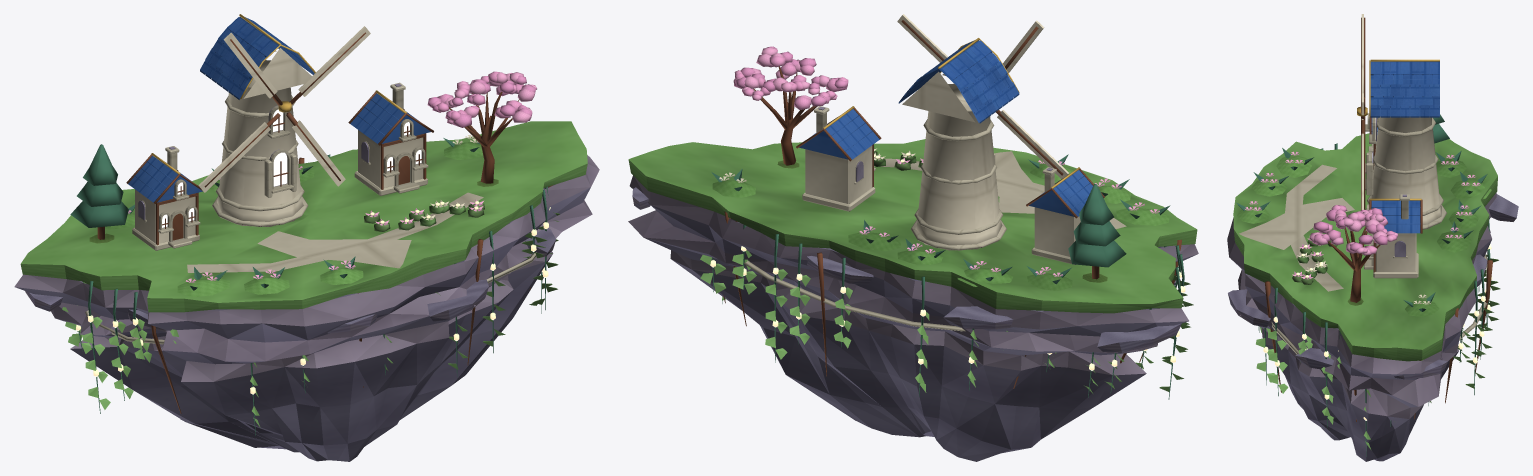
The model's file is sky-windmill-final-v1-balanced.glb.
3 renders of one model, left to right at view 1: azimuth 30°, elevation 25°; view 2: azimuth 150°, elevation 25°; view 3: azimuth 270°, elevation 25°, orthographic. The views are drawn at different scales.
Parts seen in each view (by area): view 1: sky-windmill-final-v1; view 2: sky-windmill-final-v1; view 3: sky-windmill-final-v1.
Part boxes in pixels (x1,y1,x2,y2): sky-windmill-final-v1: [14, 14, 599, 461]; sky-windmill-final-v1: [628, 14, 1198, 461]; sky-windmill-final-v1: [1227, 14, 1518, 461].
Size of the model in its own units: 17.93 by 13.37 by 9.26.
10 materials, 10 textured.
